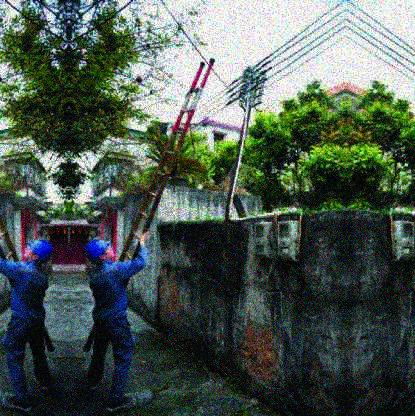helmet: (83, 238, 115, 265), (23, 237, 53, 264)
